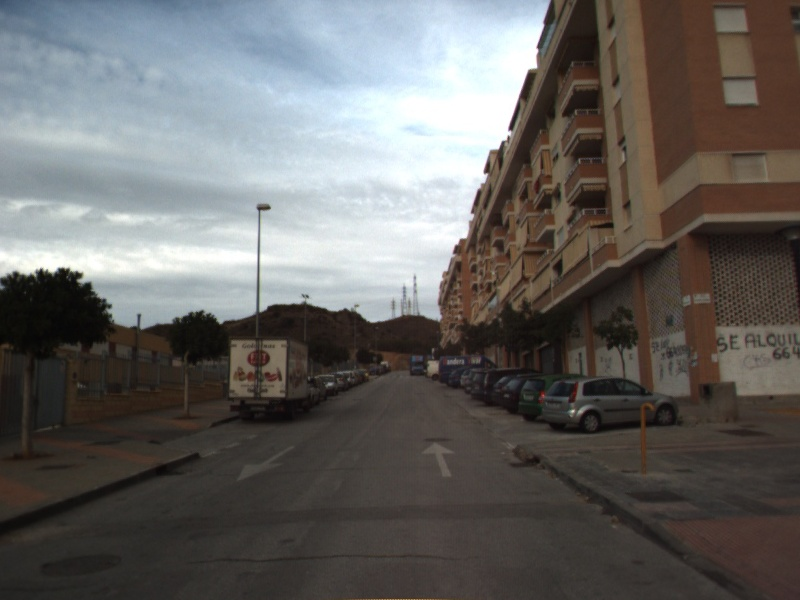STRAIGHT: (419, 440, 458, 479)
